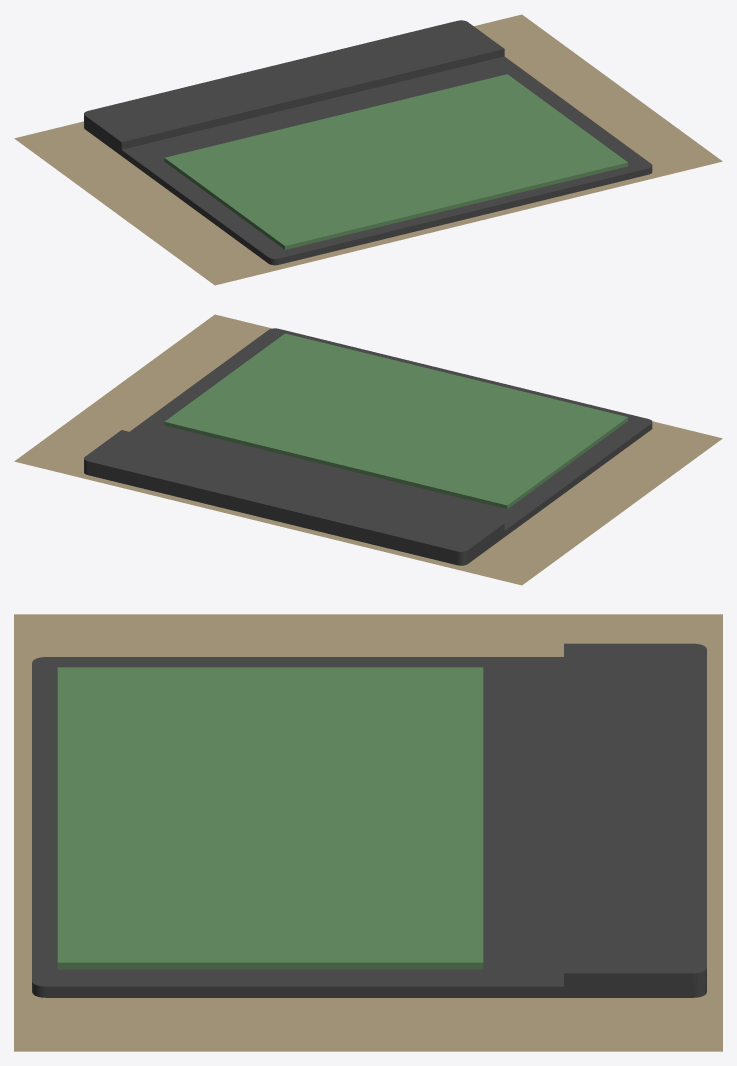
Rendered from stage_main_ST.fbx.
The picture shows the model from 3 angles, top to bottom: view 1: azimuth 30°, elevation 25°; view 2: azimuth 150°, elevation 25°; view 3: azimuth 270°, elevation 25°; orthographic projection. The views are drawn at different scales.
Parts seen in each view (by area): view 1: stage_03_0008:pCube2, stage_03_0008:pCube1, stage_03_0008:pPlane1; view 2: stage_03_0008:pCube2, stage_03_0008:pCube1, stage_03_0008:pPlane1; view 3: stage_03_0008:pCube2, stage_03_0008:pCube1, stage_03_0008:pPlane1.
Boxes of the visible parts, x1=… form: stage_03_0008:pCube2: x1=164, y1=74, x2=627, y2=249; stage_03_0008:pCube1: x1=84, y1=20, x2=652, y2=265; stage_03_0008:pPlane1: x1=14, y1=14, x2=722, y2=285; stage_03_0008:pCube2: x1=164, y1=333, x2=627, y2=509; stage_03_0008:pCube1: x1=84, y1=328, x2=652, y2=565; stage_03_0008:pPlane1: x1=14, y1=314, x2=722, y2=585; stage_03_0008:pCube2: x1=57, y1=667, x2=483, y2=969; stage_03_0008:pCube1: x1=32, y1=643, x2=706, y2=997; stage_03_0008:pPlane1: x1=14, y1=614, x2=722, y2=1051.
Bounding box in the file's own units: 49.26 × 1.29 × 33.75.
